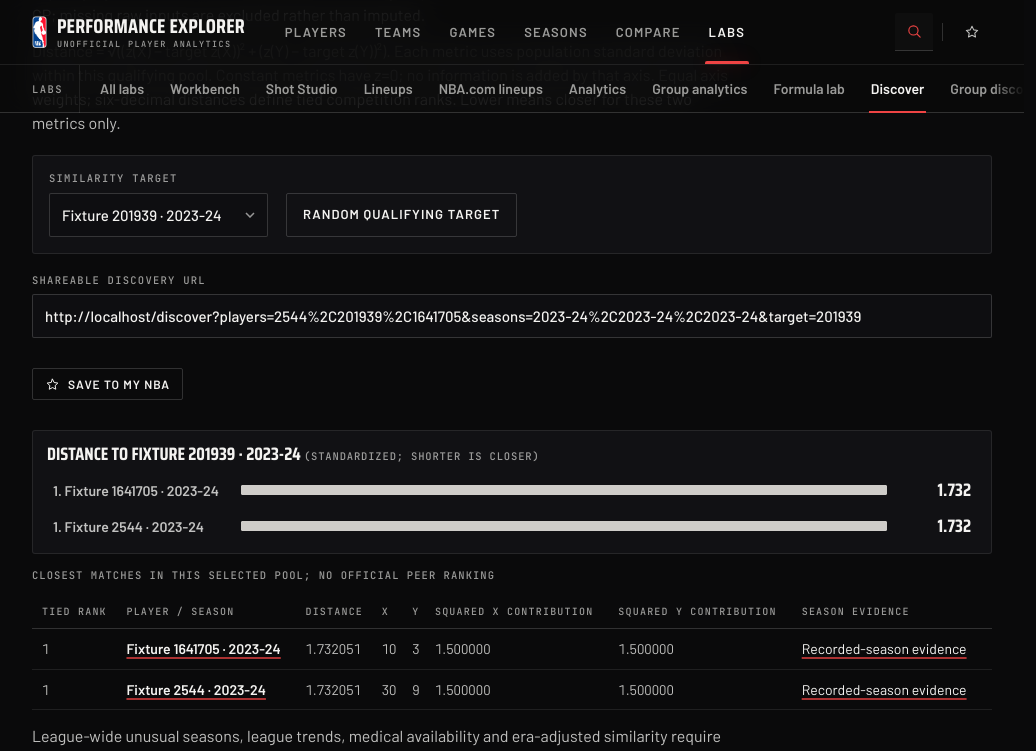
discovery view › explains the selected population and preserves equal-distance ties with exact evidence links
The image size is (1036, 751).
(page scrolled)
Expected: the text "1.732051" is shown 2 times, [306,629,382,670]; [306,670,382,710]
Expected: the text "1.732" is shown 2 times, [938,476,971,504]; [938,512,971,540]
Click the button "Save to My NBA" at (108, 384), box [32,368,183,400]
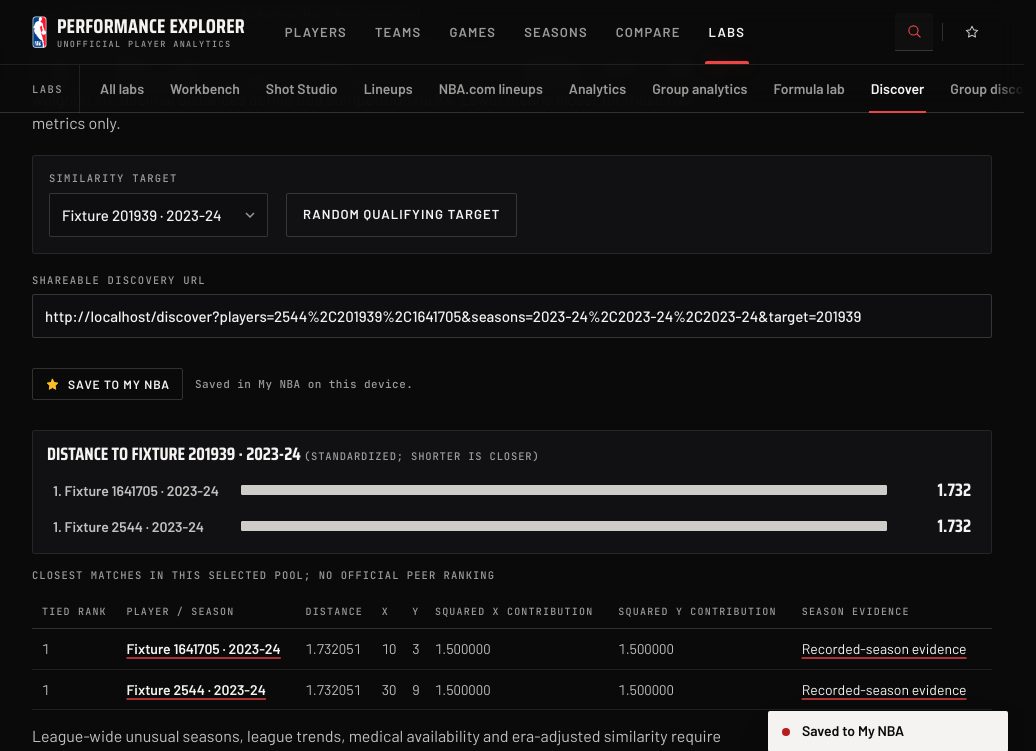
Expected: the text "Saved in My NBA on this device." is shown, [195,377,413,391]
Click the button "Random qualifying target" at (402, 215), box [286,193,517,237]
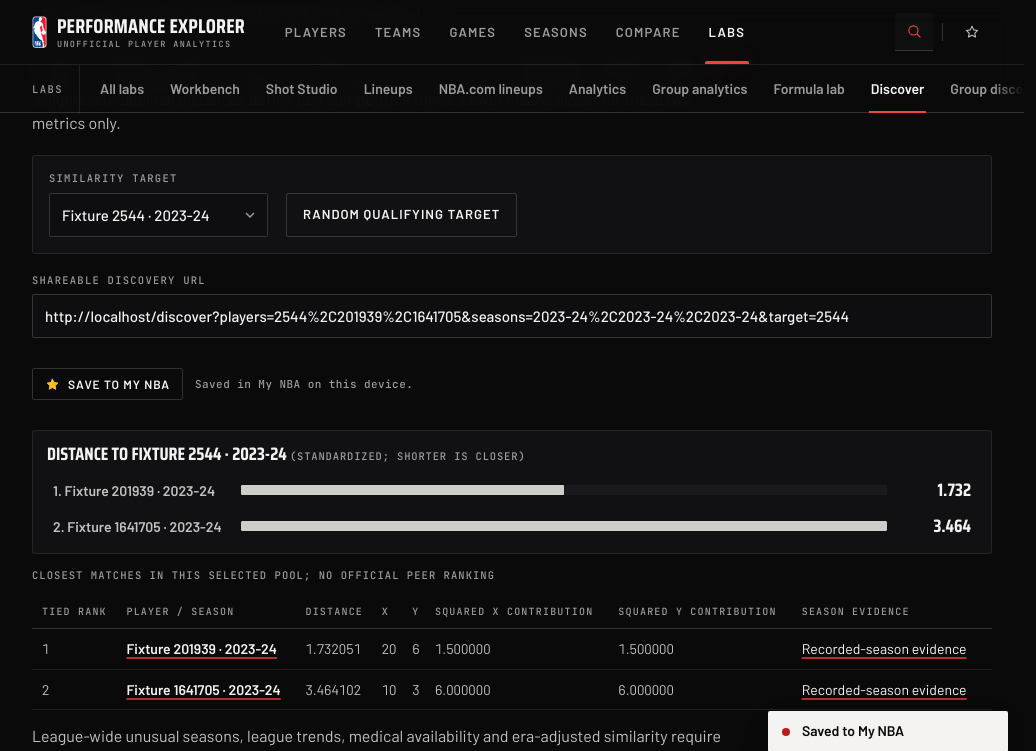
Expected: the dropdown labelled "Similarity target" shows "Fixture 2544 · 2023-24", [49,193,268,237]
